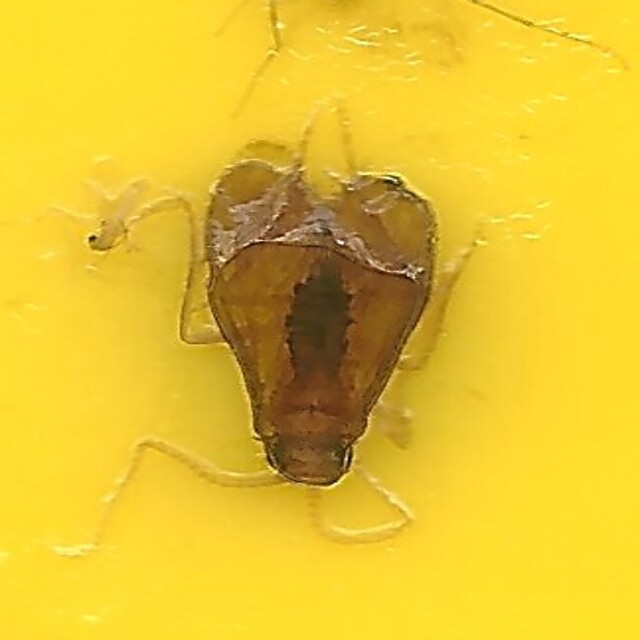Trichoptera: (198, 147, 442, 493)
